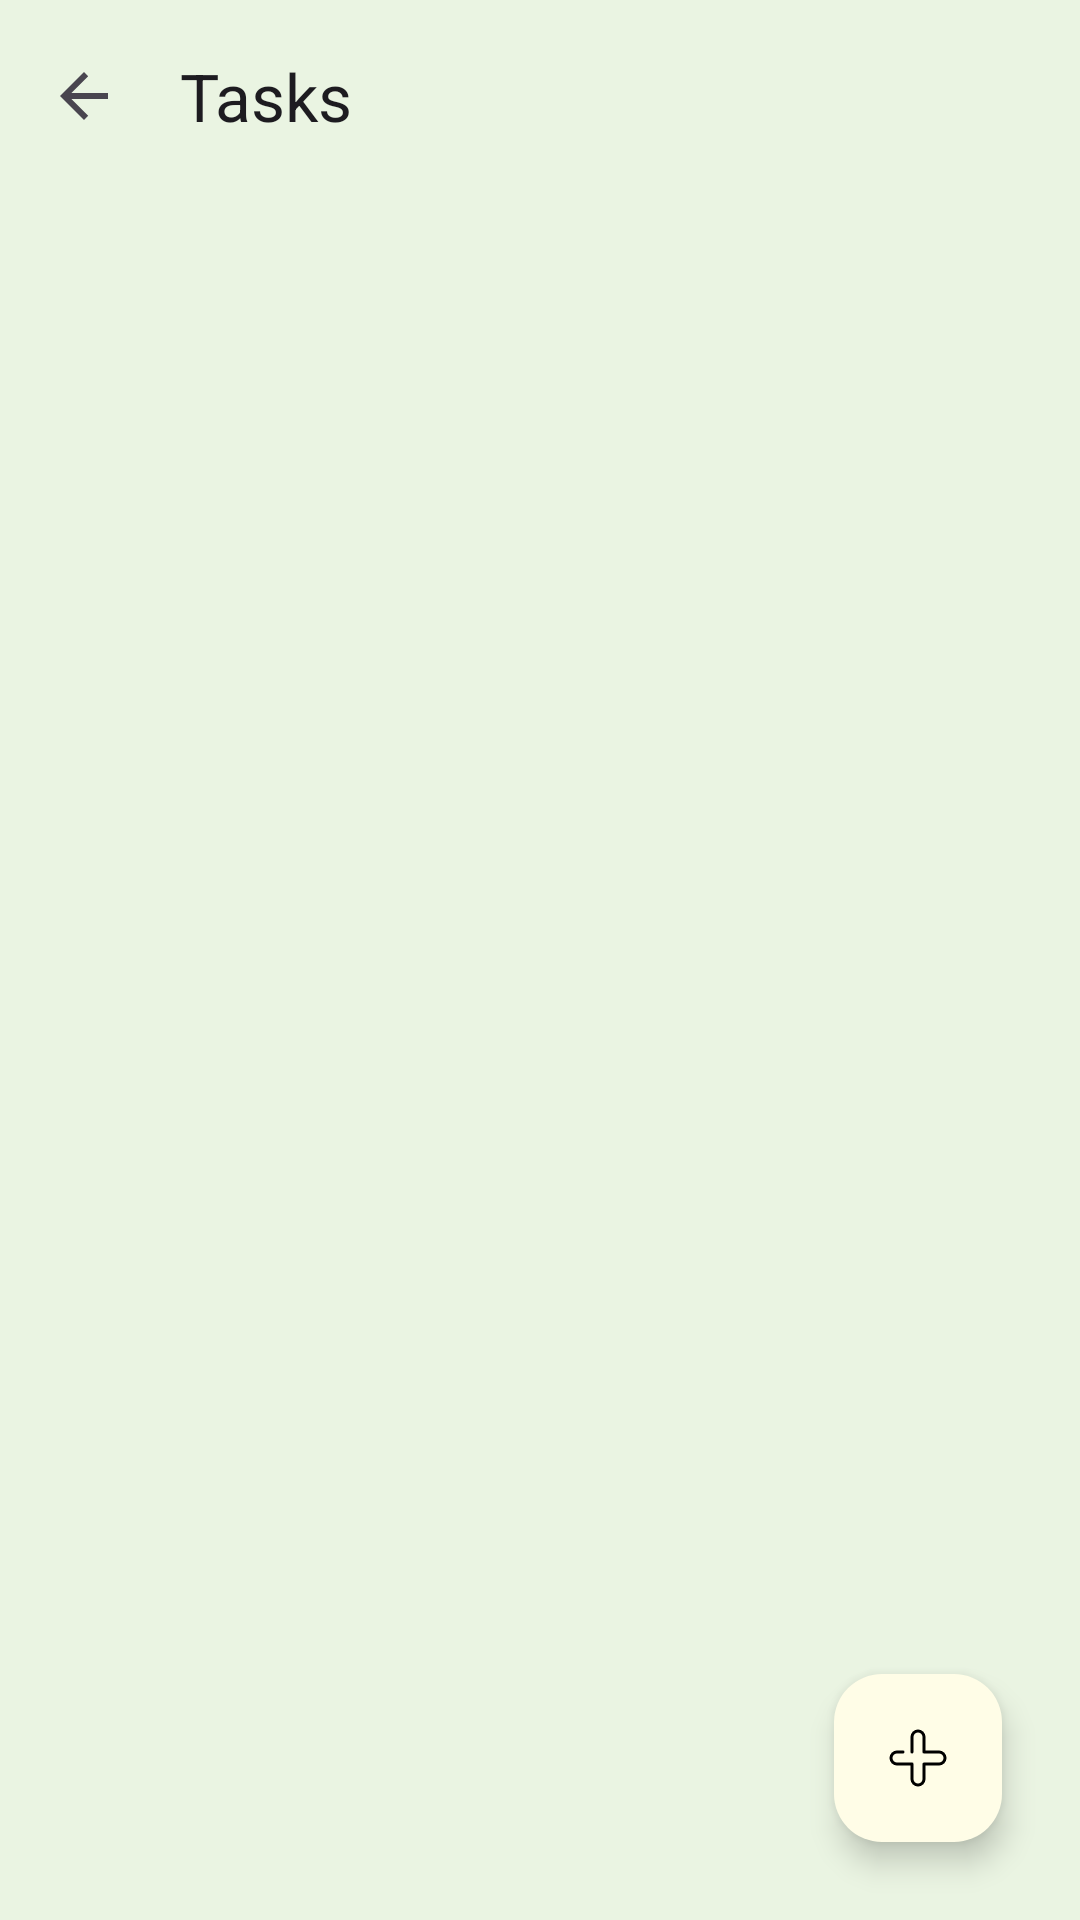

Named icons in this screenshot (1080x1920) and their centers, (x=x, y=y):
add: (x=918, y=1758)
